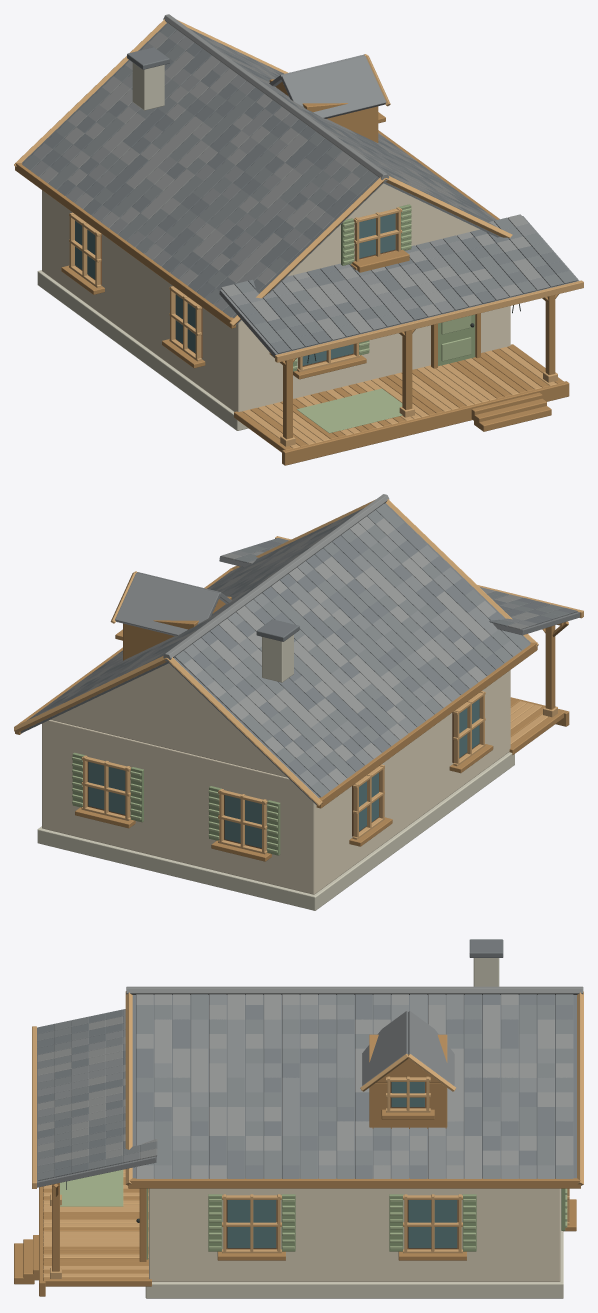
The model's file is SM_RelaxedNeighborHouse_Blockout.fbx.
The picture shows the model from 3 angles, top to bottom: view 1: azimuth 30°, elevation 25°; view 2: azimuth 150°, elevation 25°; view 3: azimuth 270°, elevation 25°; orthographic projection. The views are drawn at different scales.
Parts seen in each view (by area): view 1: SM_RelaxedNeighborHouse_Blockout; view 2: SM_RelaxedNeighborHouse_Blockout; view 3: SM_RelaxedNeighborHouse_Blockout.
Part boxes in pixels (x1,y1,x2,y2): SM_RelaxedNeighborHouse_Blockout: (14,14,583,465); SM_RelaxedNeighborHouse_Blockout: (14,494,583,910); SM_RelaxedNeighborHouse_Blockout: (14,939,583,1298).
Size of what is drawn, in the model's own units: 905 by 1385 by 667.
